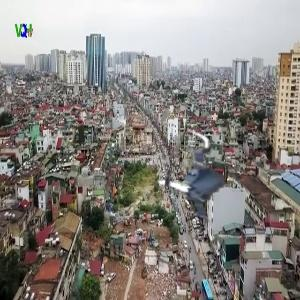drone: (146, 129, 245, 228)
